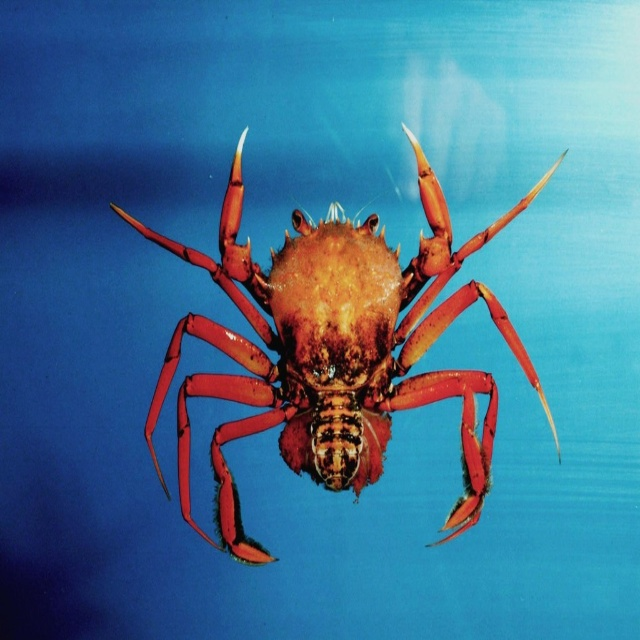Crab: (103, 122, 573, 571)
